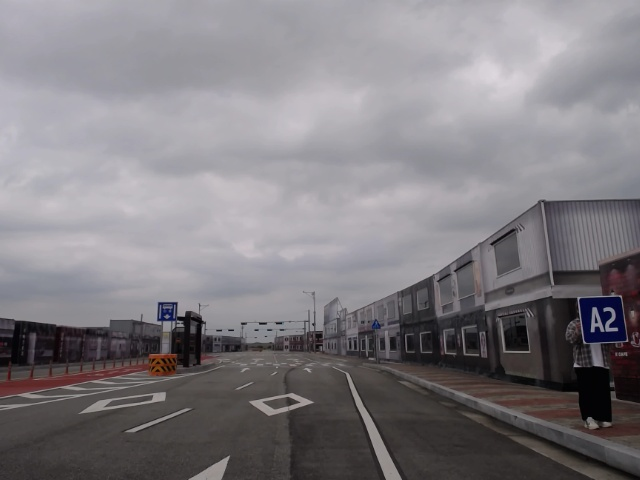delivery_a2: (578, 295, 628, 344)
